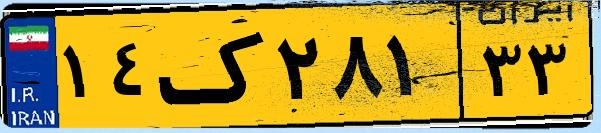1: (385, 28, 445, 110), (57, 26, 110, 100)
2: (270, 28, 330, 110)
3: (475, 38, 525, 113), (525, 38, 570, 115)
4: (110, 28, 158, 98)
8: (330, 28, 385, 110)
ک: (158, 12, 270, 120)
